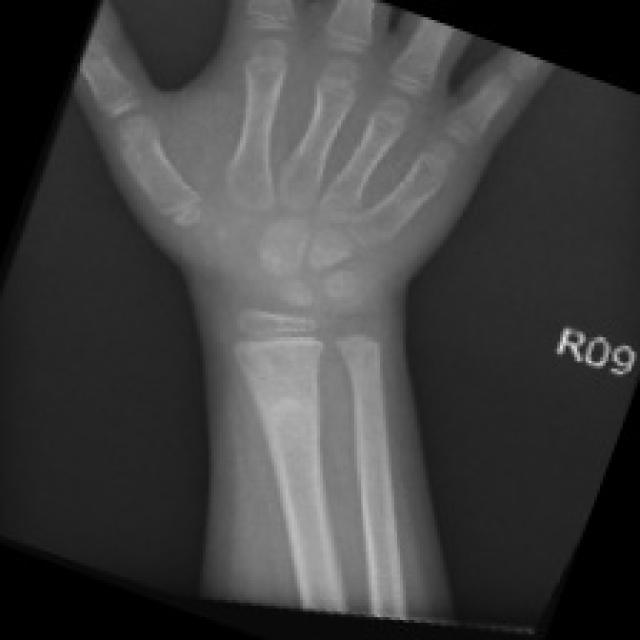fracture: (312, 293, 409, 394)
